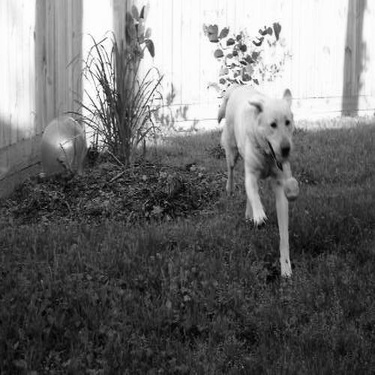dog: (212, 69, 302, 276)
